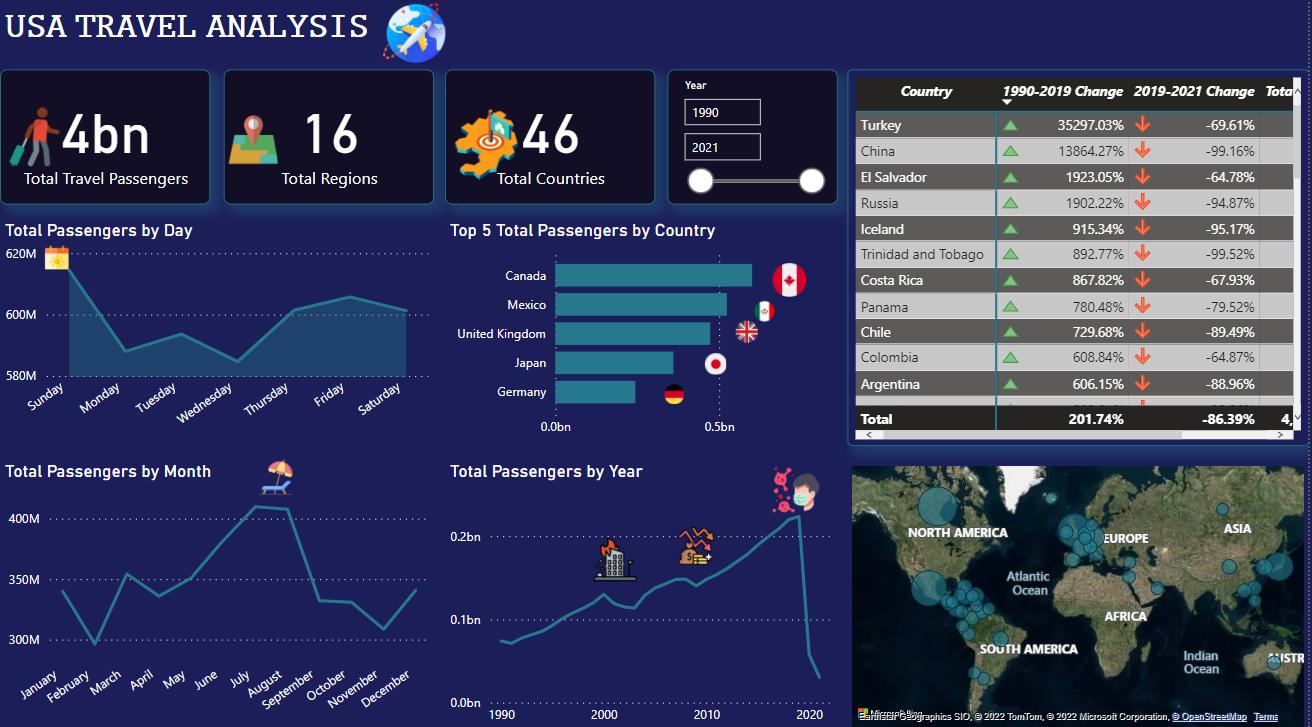

The dashboard page shown, as its layout file describes it:
{"tool":"powerbi","page":{"name":"Page 4","canvas":[1280,720],"ordinal":4},"visuals":[{"type":"textbox","box":[0,0,382.6,62.3],"z":0},{"type":"card","fields":{"Values":["Data (US).Total Travel Passengers"]},"box":[0,70.9,205.4,132],"z":1000},{"type":"card","fields":{"Values":["Data (US).Total Regions"]},"box":[218.8,70.9,205.4,132],"z":2000},{"type":"card","fields":{"Values":["Data (US).Total Countries"]},"box":[435.2,70.9,205.4,132],"z":3000},{"type":"slicer","fields":{"Values":["Date.Year"]},"box":[652.8,70.9,166.2,132],"z":4000},{"type":"areaChart","fields":{"Category":["Date.Day"],"Y":["Sum(Data (US).Total Passengers)"]},"box":[0,217.6,424.2,221.3],"z":5000},{"type":"lineChart","fields":{"Category":["Date.Date.Variation.Date Hierarchy.Year","Date.Date.Variation.Date Hierarchy.Quarter","Date.Date.Variation.Date Hierarchy.Month","Date.Date.Variation.Date Hierarchy.Day"],"Y":["Sum(Data (US).Total Passengers)"]},"box":[0,453.5,424.2,266.5],"z":6000},{"type":"lineChart","fields":{"Y":["Sum(Data (US).Total Passengers)"],"Category":["Date.Date.Variation.Date Hierarchy.Year","Date.Date.Variation.Date Hierarchy.Quarter","Date.Date.Variation.Date Hierarchy.Month","Date.Date.Variation.Date Hierarchy.Day"]},"box":[435.2,453.5,383.8,266.5],"z":7000},{"type":"clusteredBarChart","title":"Top 5 Total Passengers by Country","fields":{"Category":["Data (US).Country"],"Y":["Sum(Data (US).Total Passengers)"]},"box":[435.2,217.6,383.8,221.3],"z":8000},{"type":"map","fields":{"Category":["Data (US).Country"],"Size":["Sum(Data (US).Total Passengers)"]},"box":[828.8,453.5,451.1,266.5],"z":9000},{"type":"pivotTable","fields":{"Values":["Data (US).1990-2019 Change","Data (US).2019-2021 Change","Sum(Data (US).Total Passengers)"],"Rows":["Data (US).Country"]},"box":[828.8,70.9,451.1,367.9],"z":10000},{"type":"image","box":[741.6,255.5,59.1,42.6],"z":11000},{"type":"image","box":[722.4,285.7,49.4,42.6],"z":12000},{"type":"image","box":[714.2,311.8,33,31.6],"z":13000},{"type":"image","box":[683.9,343.3,30.2,30.2],"z":14000},{"type":"image","box":[641.4,373.6,34.3,28.8],"z":15000},{"type":"image","box":[366.7,0,77,70.9],"z":16000},{"type":"image","box":[0,85.6,67.2,102.7],"z":17000},{"type":"image","box":[218.8,102.7,57.5,73.3],"z":18000},{"type":"image","box":[435.2,100.2,78.2,88],"z":19000},{"type":"image","box":[39.1,238.4,33,33],"z":20000},{"type":"image","box":[575.8,519.5,52.6,61.1],"z":21000},{"type":"image","box":[749.3,449.8,57.5,63.6],"z":22000},{"type":"image","box":[652.8,513.4,55,46.5],"z":23000},{"type":"image","box":[246.9,447.4,45.2,44],"z":24000}]}

Visuals, with their boxes in screenshot pixels (x1, y1, x2, y2), scaled from the page's 1280x720 canvas onto the 1312x727 screenshot:
textbox: l=0, t=0, r=392, b=63
card - Data (US).Total Travel Passengers: l=0, t=72, r=211, b=205
card - Data (US).Total Regions: l=224, t=72, r=435, b=205
card - Data (US).Total Countries: l=446, t=72, r=657, b=205
slicer - Date.Year: l=669, t=72, r=839, b=205
areaChart - Date.Day x Sum(Data (US).Total Passengers): l=0, t=220, r=435, b=443
lineChart - Date.Date.Variation.Date Hierarchy.Year x Date.Date.Variation.Date Hierarchy.Quarter: l=0, t=458, r=435, b=726
lineChart - Sum(Data (US).Total Passengers) x Date.Date.Variation.Date Hierarchy.Year: l=446, t=458, r=839, b=726
"Top 5 Total Passengers by Country" clusteredBarChart: l=446, t=220, r=839, b=443
map - Data (US).Country x Sum(Data (US).Total Passengers): l=850, t=458, r=1311, b=726
pivotTable - Data (US).1990-2019 Change x Data (US).2019-2021 Change: l=850, t=72, r=1311, b=443
image: l=760, t=258, r=821, b=301
image: l=740, t=288, r=791, b=331
image: l=732, t=315, r=766, b=347
image: l=701, t=347, r=732, b=377
image: l=657, t=377, r=693, b=406
image: l=376, t=0, r=455, b=72
image: l=0, t=86, r=69, b=190
image: l=224, t=104, r=283, b=178
image: l=446, t=101, r=526, b=190
image: l=40, t=241, r=74, b=274
image: l=590, t=525, r=644, b=586
image: l=768, t=454, r=827, b=518
image: l=669, t=518, r=725, b=565
image: l=253, t=452, r=299, b=496
